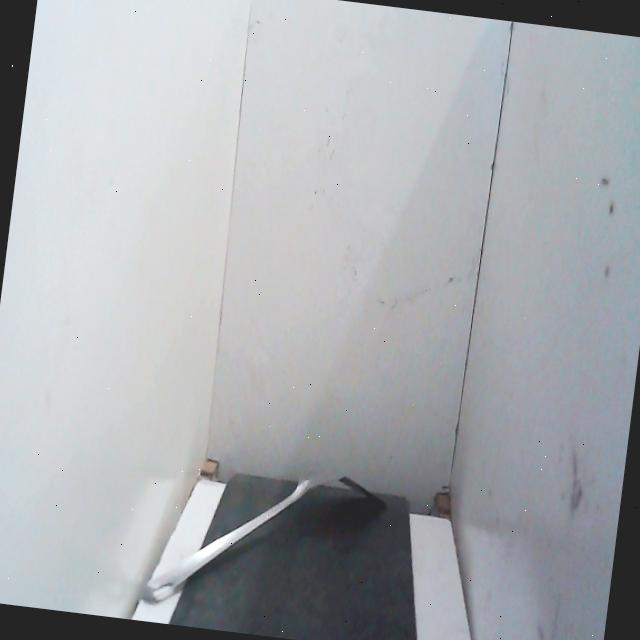metal: (132, 440, 396, 636)
